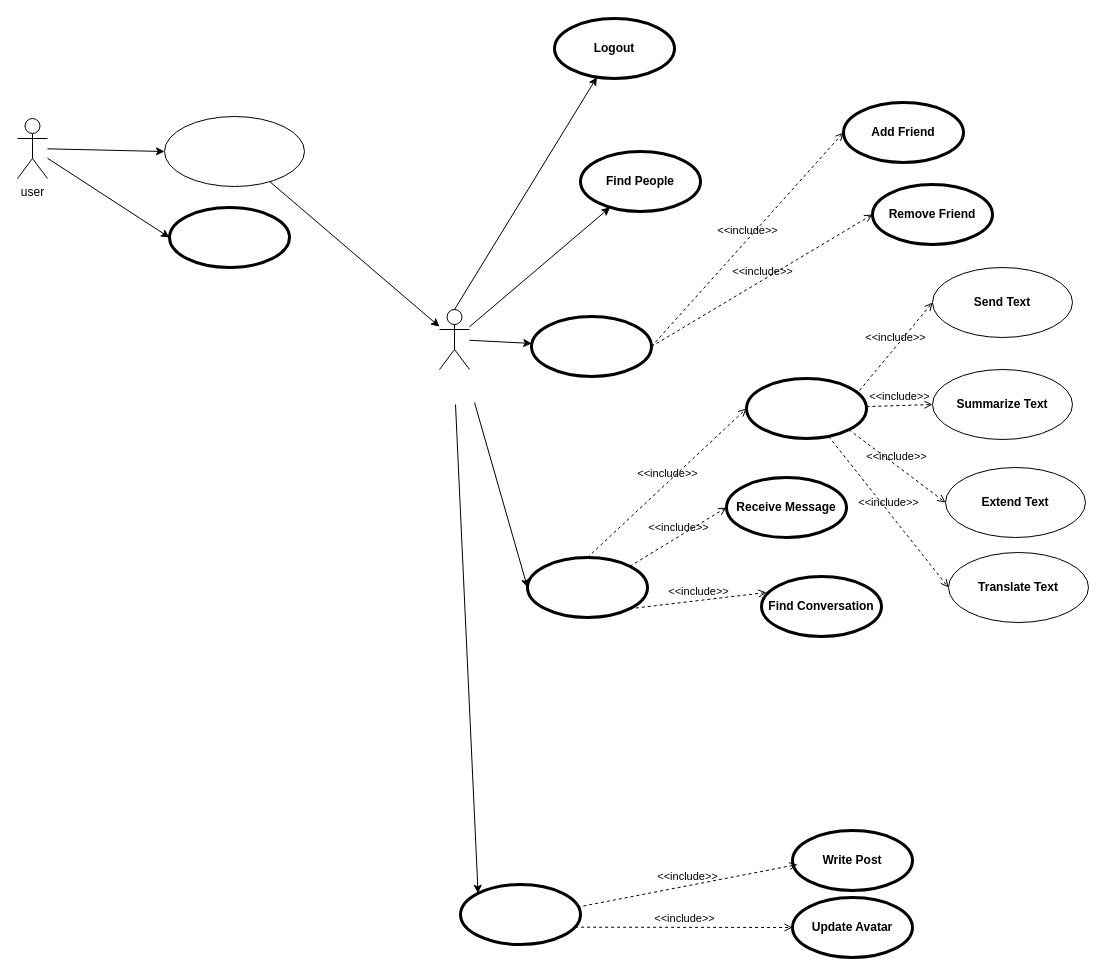
Image size: 1106x976. Some labels were removed from this diagram. The shapes that lost their labels are listed below. From the top down, each one's box as (x1, y1, x2, y2) in pixels, then its label:
(164, 116, 304, 186): Login
(168, 206, 290, 268): Register
(438, 308, 470, 370): authenticated user
(530, 314, 652, 378): Friends Actions
(744, 376, 868, 440): Send Message
(526, 556, 648, 618): Messages Actions
(458, 882, 582, 946): View Profile
